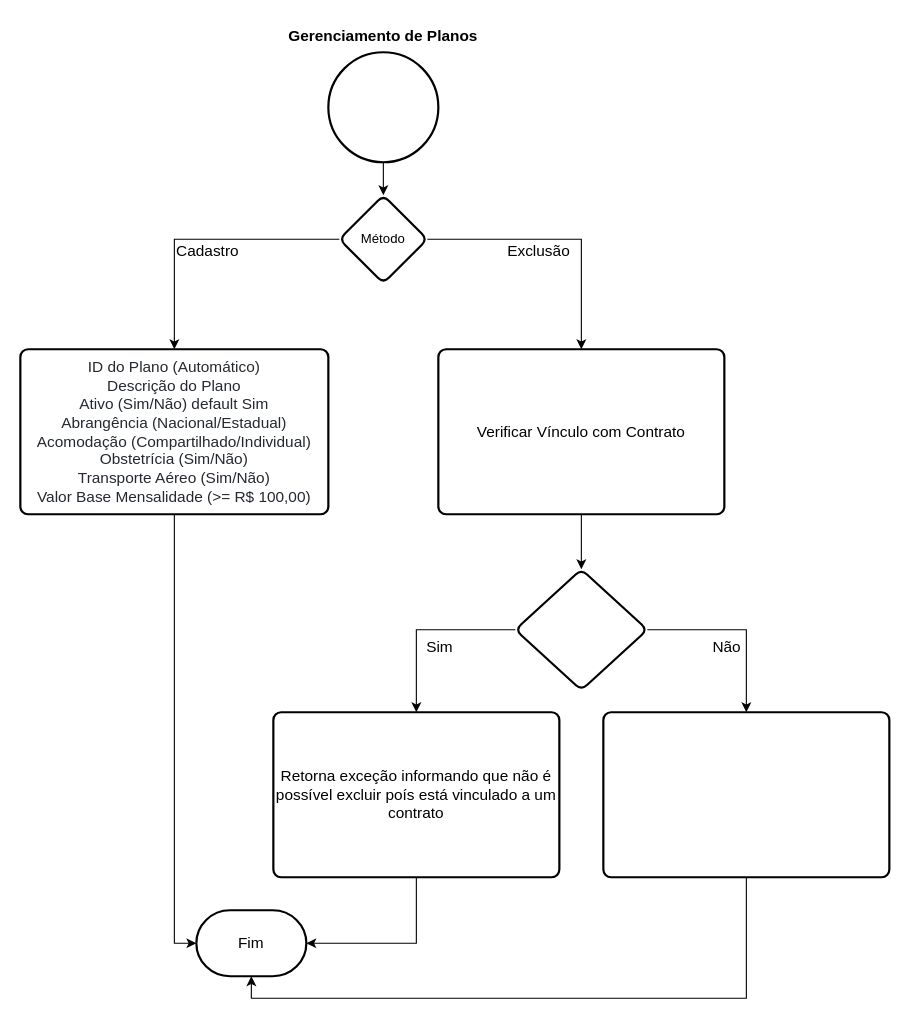
This 909x1026 diagram has some shape labels left out. Here are the shapes that lost their labels. From the top down, the centre of each, then its label:
At (x=383, y=107): "Início".
At (x=581, y=629): "Vinculado com Contrato".
At (x=746, y=794): "Realiza Exclusão do Plano".
